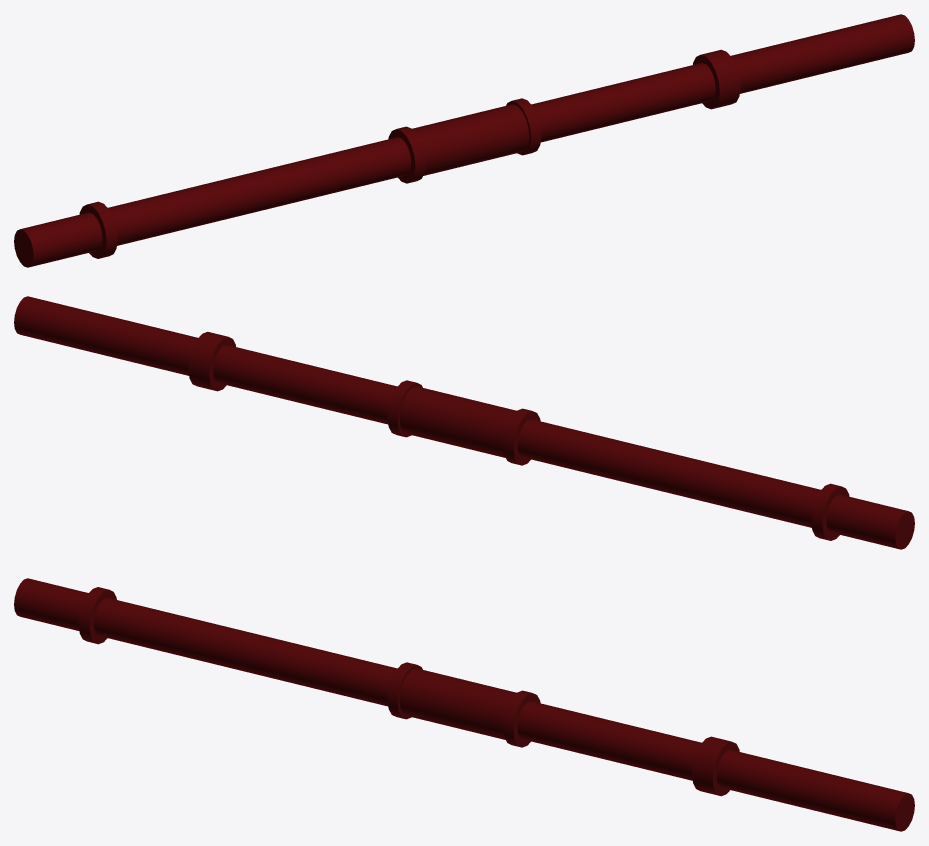
Rendered from Pipe Bumpy.fbx.
3 views of the same model, one above another, from view 1: azimuth 30°, elevation 25°; view 2: azimuth 150°, elevation 25°; view 3: azimuth 330°, elevation 25° (orthographic).
Visible parts, largest first — view 1: Pipe Bumpy; view 2: Pipe Bumpy; view 3: Pipe Bumpy.
Boxes of the visible parts, <box> form: Pipe Bumpy: <box>14,14,914,267</box>; Pipe Bumpy: <box>14,296,914,549</box>; Pipe Bumpy: <box>14,578,914,831</box>.
Bounding box in the file's own units: 10.71 × 0.5886 × 0.5886.
